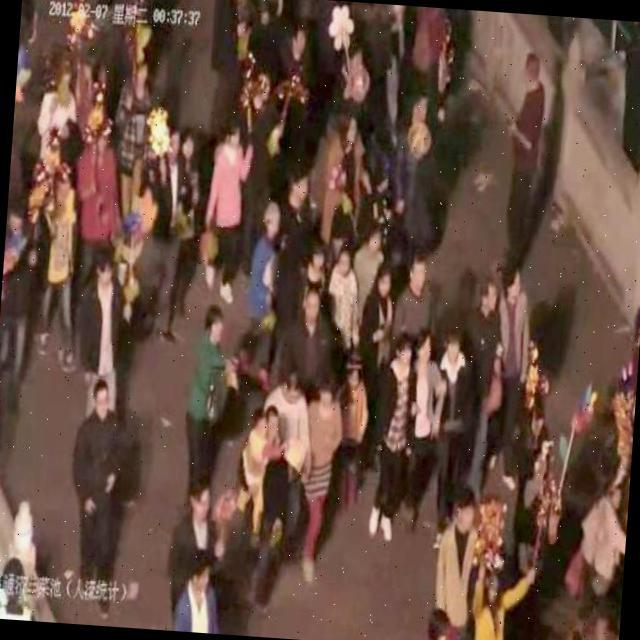person: (60, 376, 140, 627), (26, 159, 90, 373), (484, 255, 538, 492), (179, 299, 246, 489), (195, 112, 257, 310), (350, 250, 399, 493), (499, 47, 551, 272), (561, 471, 630, 640), (293, 372, 347, 586), (458, 268, 504, 513), (397, 323, 449, 539), (364, 330, 416, 544), (426, 322, 476, 531), (237, 196, 289, 394), (70, 235, 138, 386), (250, 402, 294, 610), (148, 121, 186, 342), (430, 482, 484, 637), (166, 126, 202, 330), (318, 103, 370, 244), (332, 350, 372, 512), (170, 542, 233, 634), (288, 283, 342, 387), (465, 540, 519, 640), (170, 470, 228, 560), (237, 404, 271, 544), (278, 160, 316, 282), (325, 241, 365, 354), (395, 250, 442, 340), (274, 363, 318, 410), (298, 238, 332, 290), (416, 602, 461, 640), (626, 298, 640, 388)
